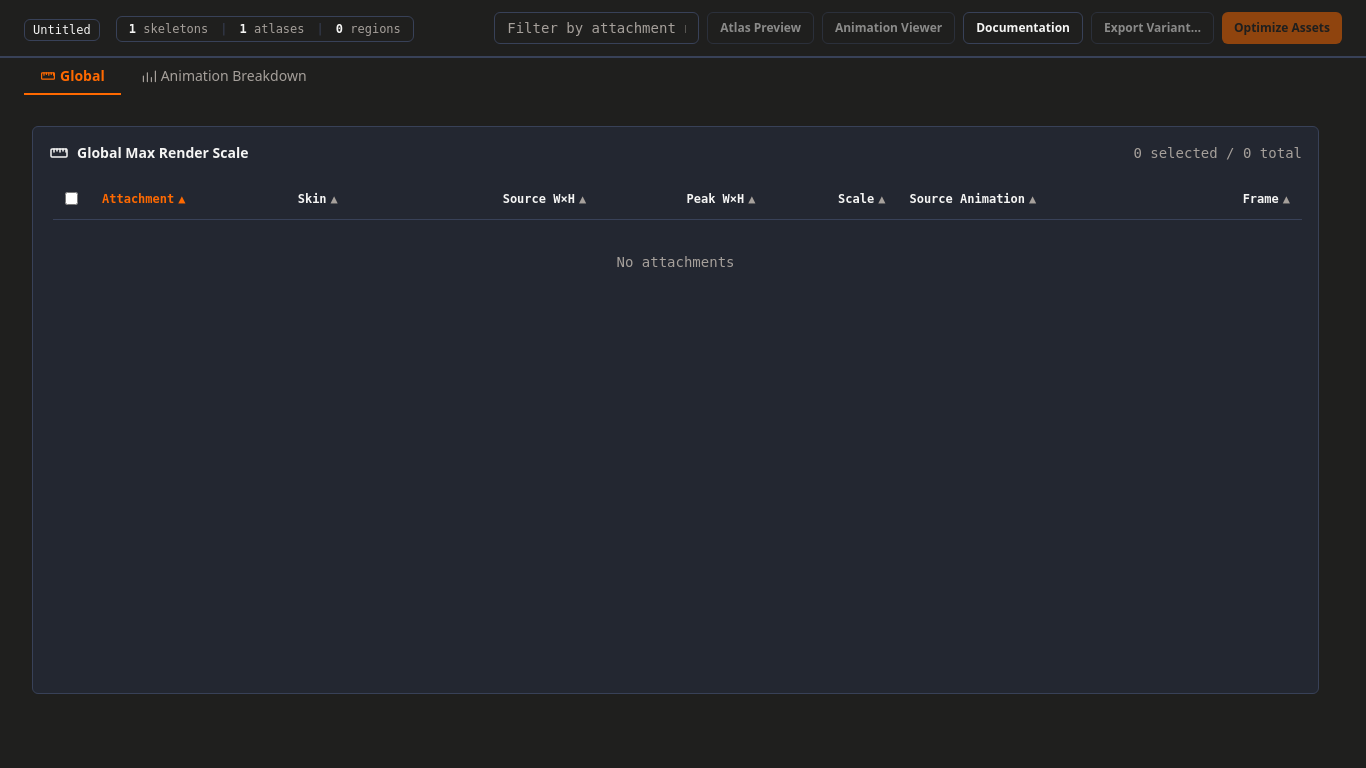
Scenario: Phase 31 LOAD-05/06/07 — source-toggle disabled state › A3: atlas-source mode + hasImagesDir=true → menu item enabled, no title attribute
Click the element named "Load summary": {"x": 265, "y": 28} x1=116 y1=16 x2=414 y2=42
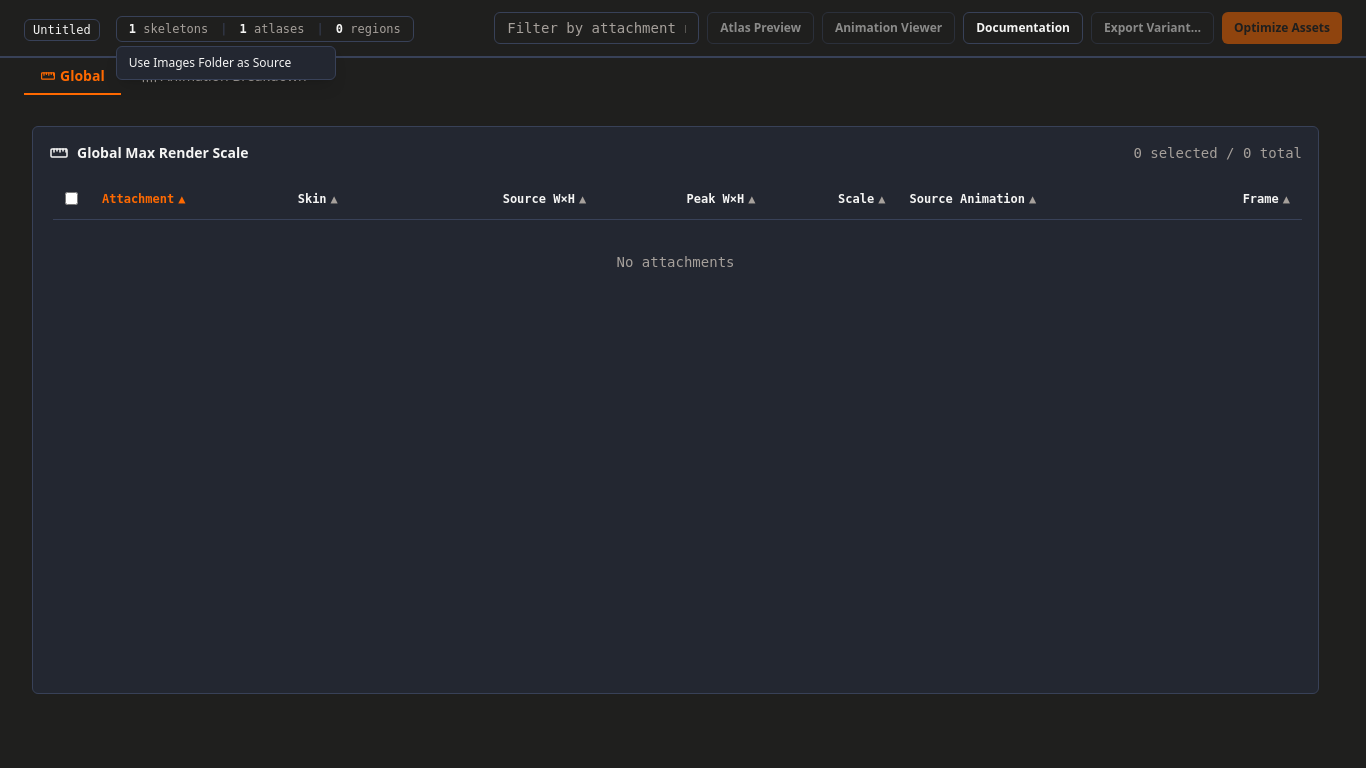
Check: the button "Use Images Folder as Source" is enabled, box x1=117 y1=46 x2=335 y2=78
